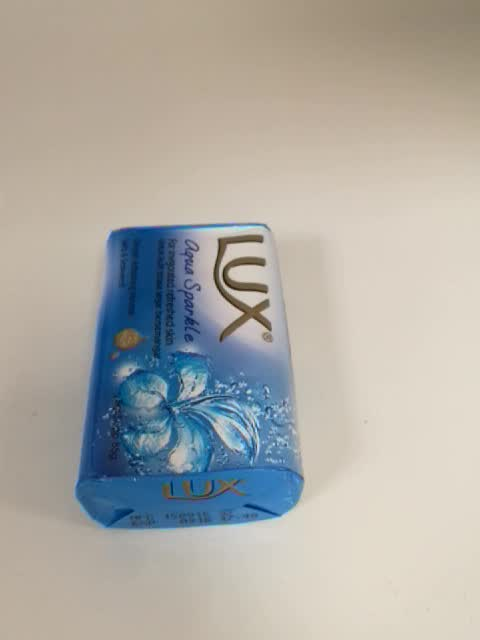soap: (73, 220, 306, 532)
